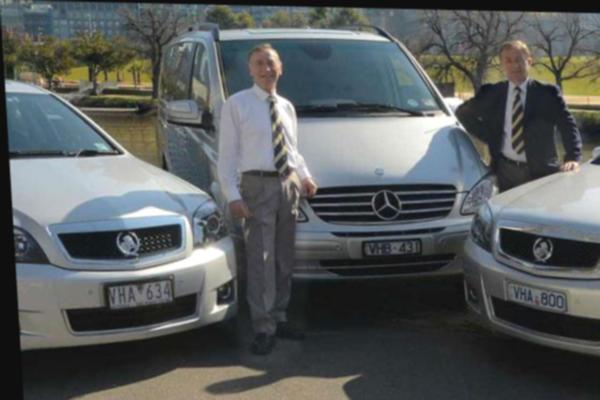License_Plate: (360, 238, 421, 257)
